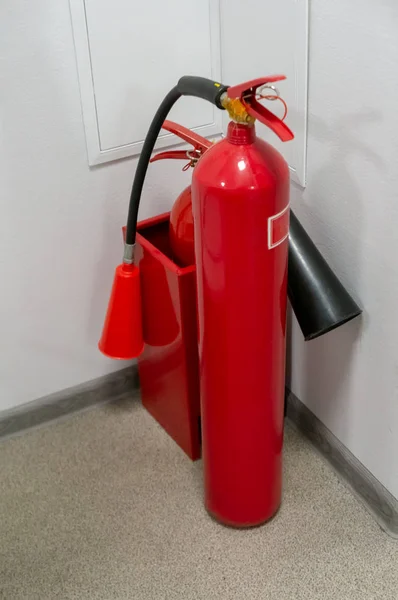fire_extinguisher: (98, 73, 362, 529)
